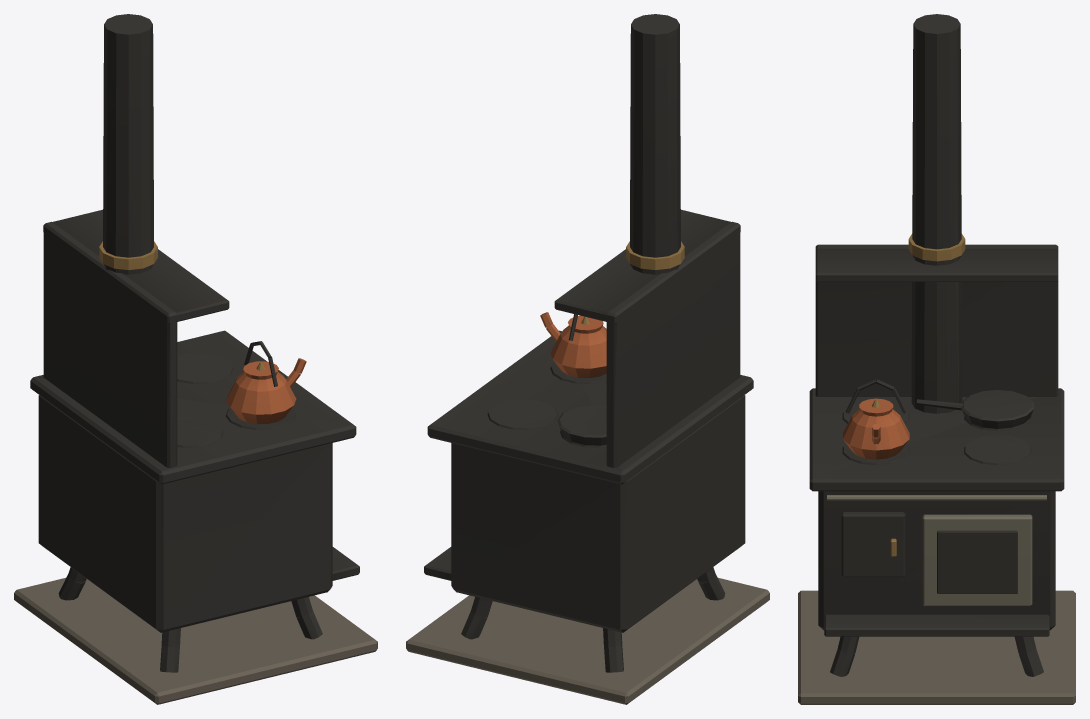
The model's file is hargrove_cookstove.glb.
3 views of the same model, side by side, from view 1: azimuth 30°, elevation 25°; view 2: azimuth 150°, elevation 25°; view 3: azimuth 270°, elevation 25° (orthographic). The views are drawn at different scales.
Visible parts, largest first — view 1: hargrove_cookstove; view 2: hargrove_cookstove; view 3: hargrove_cookstove.
Boxes of the visible parts, bbox=[...] form: hargrove_cookstove: bbox=[14, 14, 377, 704]; hargrove_cookstove: bbox=[406, 14, 769, 704]; hargrove_cookstove: bbox=[798, 14, 1075, 704].
Size of the model in its own units: 0.86 by 2.28 by 0.96.
